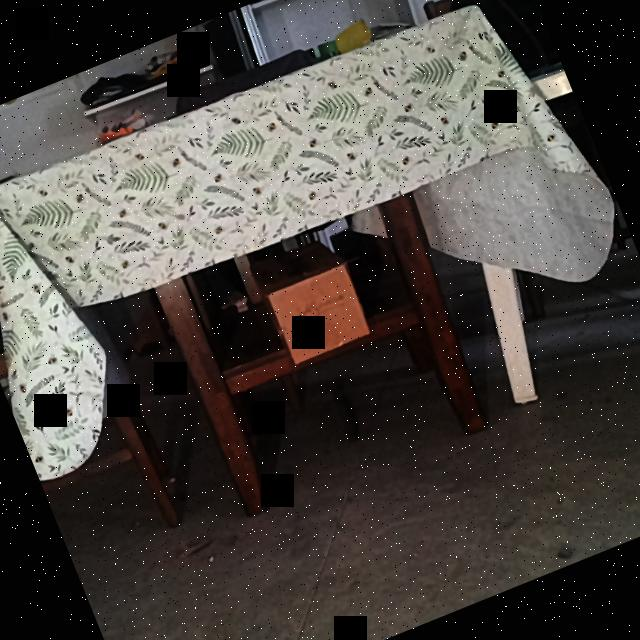box: (267, 265, 369, 363)
